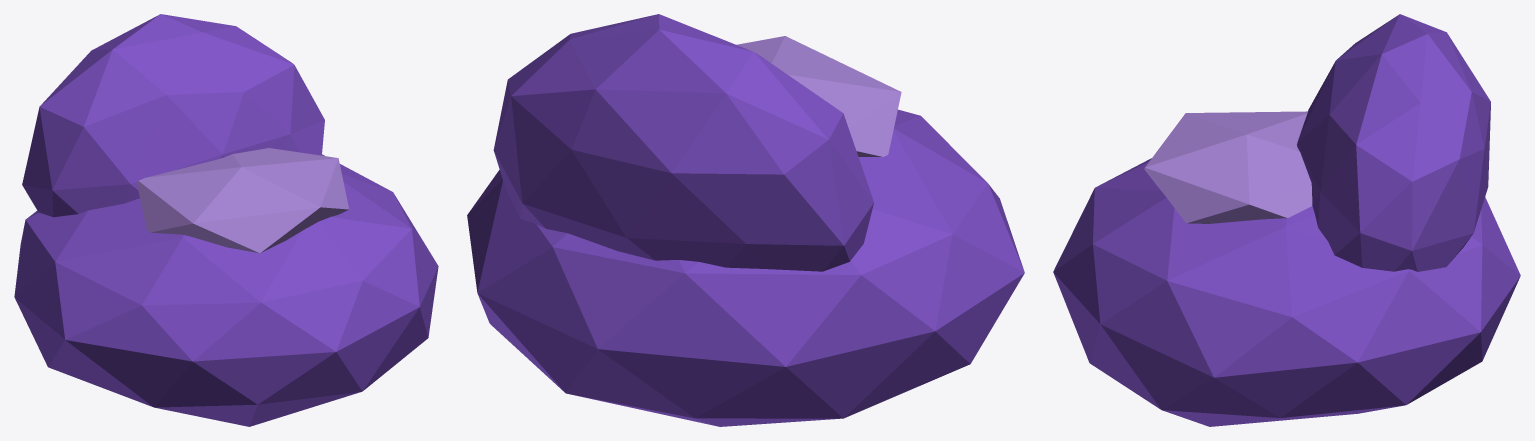
Rendered from beanbag.glb.
3 renders of one model, left to right at view 1: azimuth 30°, elevation 25°; view 2: azimuth 150°, elevation 25°; view 3: azimuth 270°, elevation 25°, orthographic. The views are drawn at different scales.
Visible parts, largest first — view 1: beanbag; view 2: beanbag; view 3: beanbag.
Boxes of the visible parts, x1=… form: beanbag: x1=14, y1=14, x2=438, y2=426; beanbag: x1=467, y1=14, x2=1024, y2=426; beanbag: x1=1053, y1=14, x2=1520, y2=426.
Bounding box in the file's own units: 0.7643 × 0.6405 × 0.7617.
